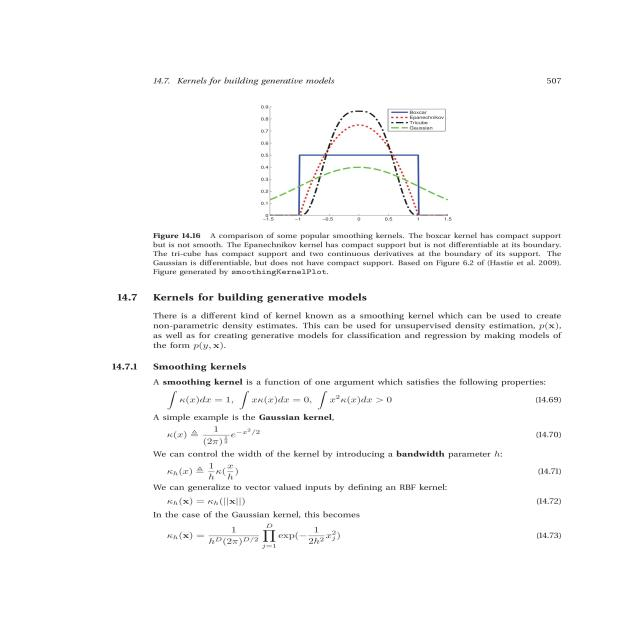diagram: (124, 89, 574, 279)
